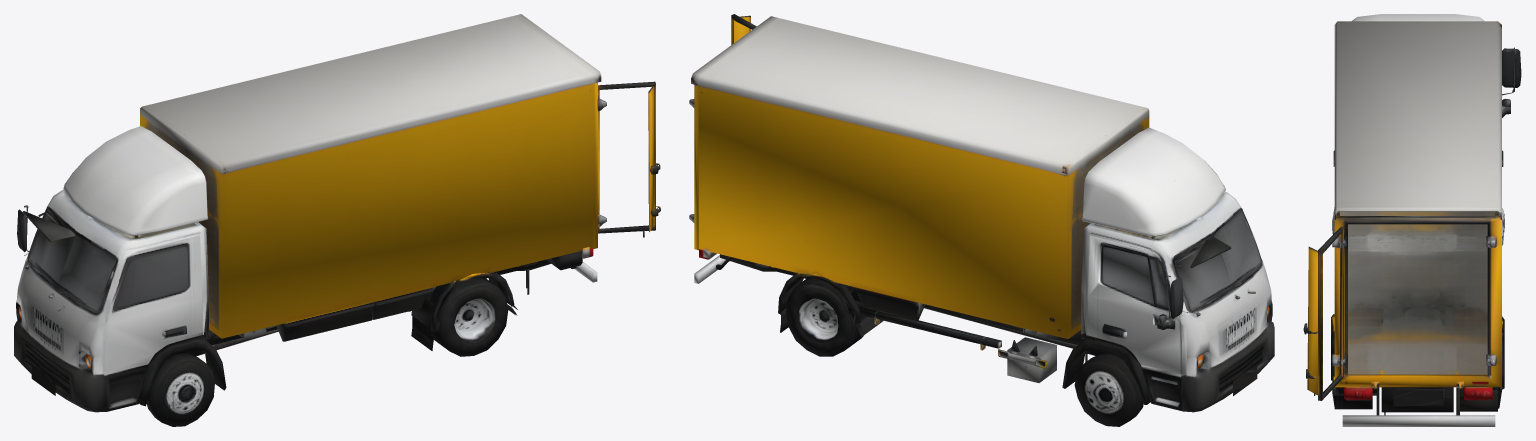
Rendered from inbound_truck.glb.
The picture shows the model from 3 angles, left to right: view 1: azimuth 30°, elevation 25°; view 2: azimuth 150°, elevation 25°; view 3: azimuth 270°, elevation 25°; orthographic projection. The views are drawn at different scales.
Parts seen in each view (by area): view 1: tripo_node_d945c0f5-1fc0-4a0d-91c8-c7bc76ff5cdd; view 2: tripo_node_d945c0f5-1fc0-4a0d-91c8-c7bc76ff5cdd; view 3: tripo_node_d945c0f5-1fc0-4a0d-91c8-c7bc76ff5cdd.
Part boxes in pixels (x1,y1,x2,y2): tripo_node_d945c0f5-1fc0-4a0d-91c8-c7bc76ff5cdd: [14, 14, 660, 426]; tripo_node_d945c0f5-1fc0-4a0d-91c8-c7bc76ff5cdd: [689, 14, 1274, 426]; tripo_node_d945c0f5-1fc0-4a0d-91c8-c7bc76ff5cdd: [1303, 14, 1521, 426].
Bounding box in the file's own units: 0.998 × 0.4277 × 0.3262.
Materials: 1 (1 with a texture image).
